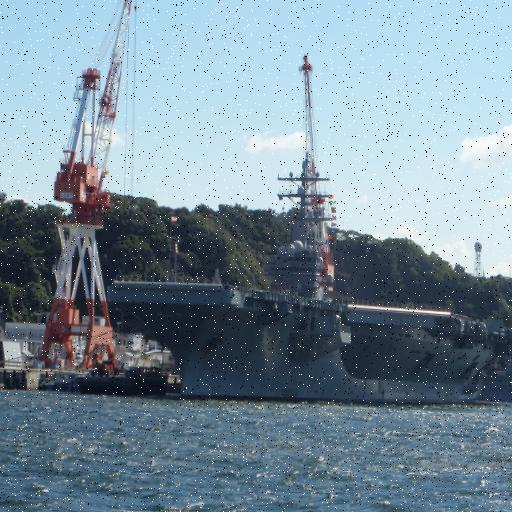Portanaves: (103, 147, 512, 405)
